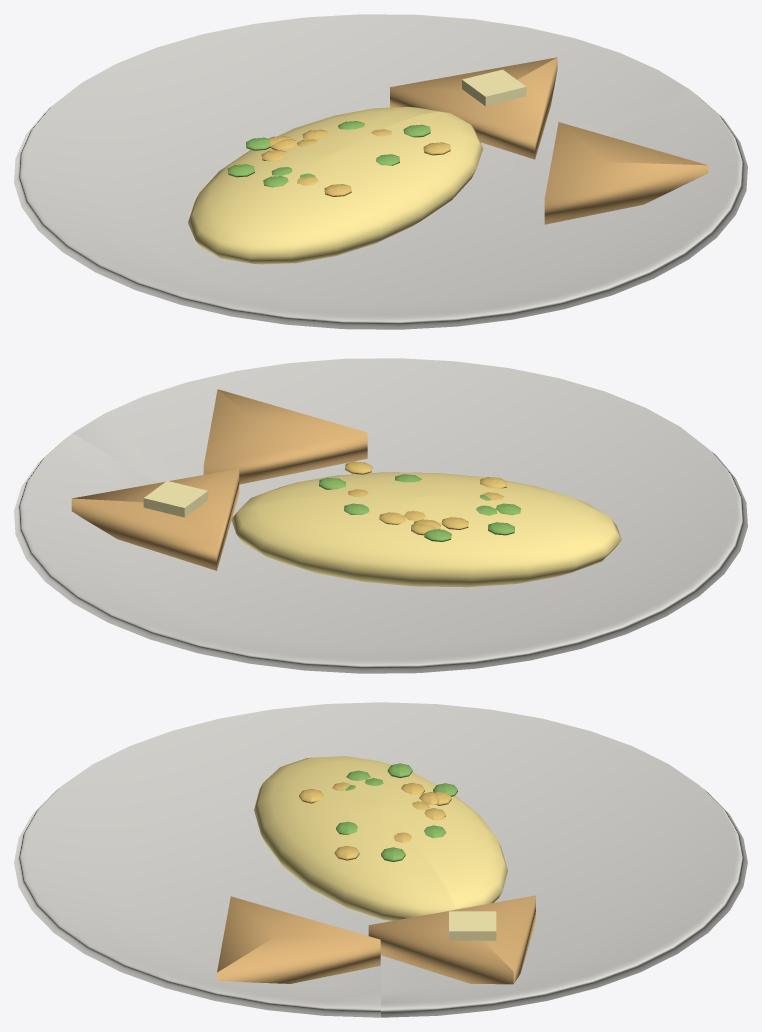
Rendered from cheese-omelette.glb.
3 renders of one model, top to bottom at view 1: azimuth 30°, elevation 25°; view 2: azimuth 150°, elevation 25°; view 3: azimuth 270°, elevation 25°, orthographic.
Visible parts, largest first — view 1: cheese-omelette; view 2: cheese-omelette; view 3: cheese-omelette.
Boxes of the visible parts, <box> form: cheese-omelette: <box>14,14,747,329</box>; cheese-omelette: <box>14,358,747,673</box>; cheese-omelette: <box>14,702,747,1017</box>.
Size of the model in its own units: 0.28 by 0.028 by 0.28.
